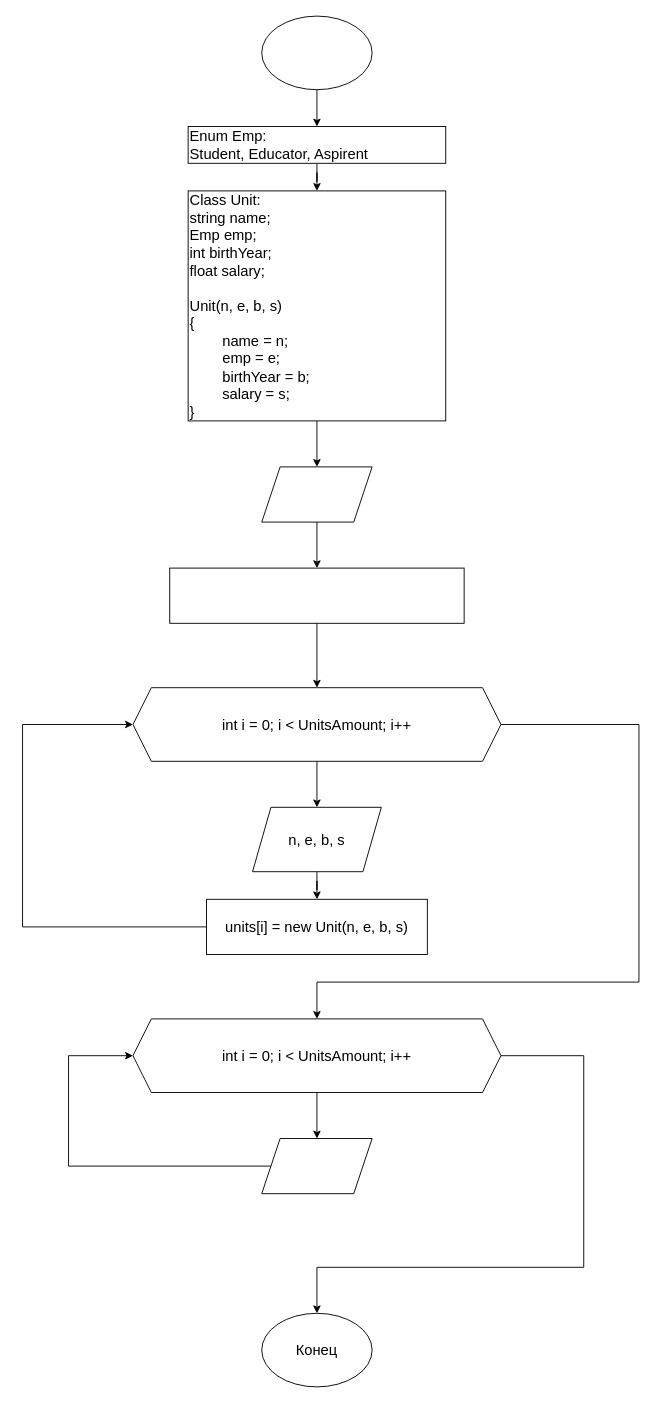
Image size: 662x1403. Some labels were removed from this diagram. The box of each missing label's shape, as (x1, y1, x2, y2) in pixels:
Unit units = new Unit[UnitsAmount];: (169, 567, 464, 623)
units[i]: (261, 1138, 372, 1194)
UnitsAmount: (261, 466, 372, 522)
Начало: (261, 15, 372, 90)
